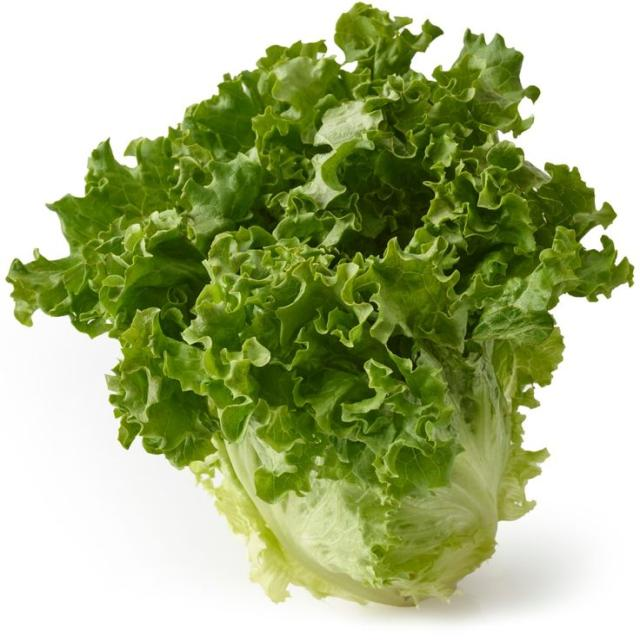lettuce: (9, 4, 632, 604)
